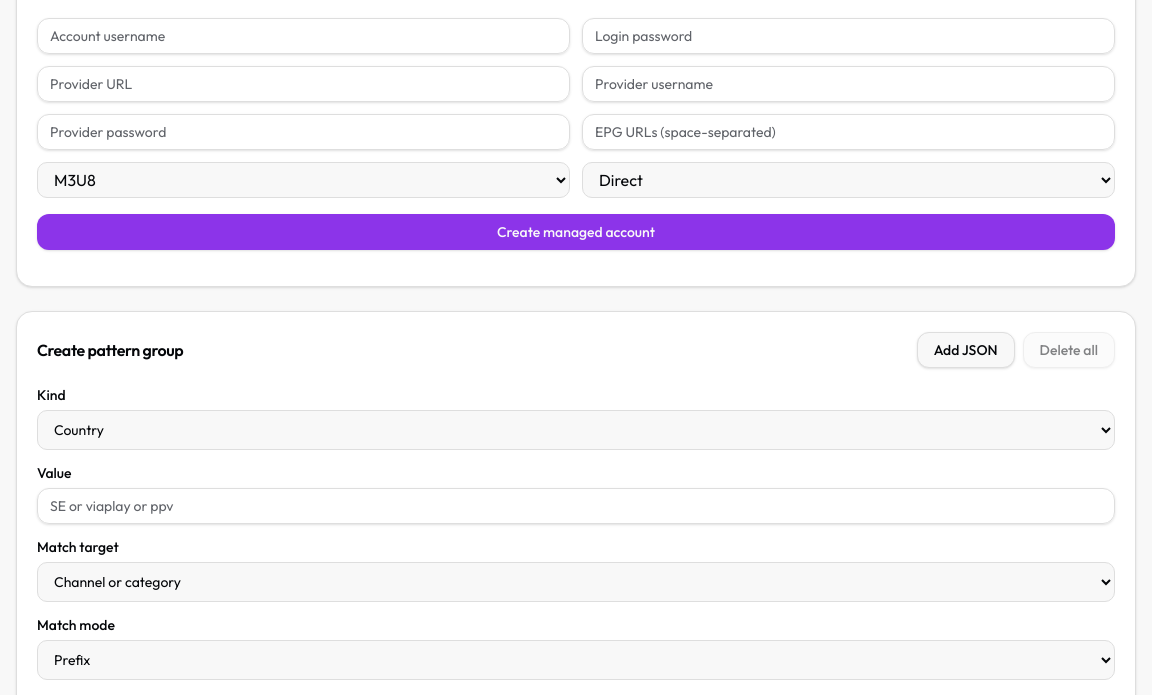
Scenario: AdminPage JSON import › opens the Add JSON modal
(page scrolled)
Click the button "Add JSON".
click(966, 350)  # box [917,332,1015,368]
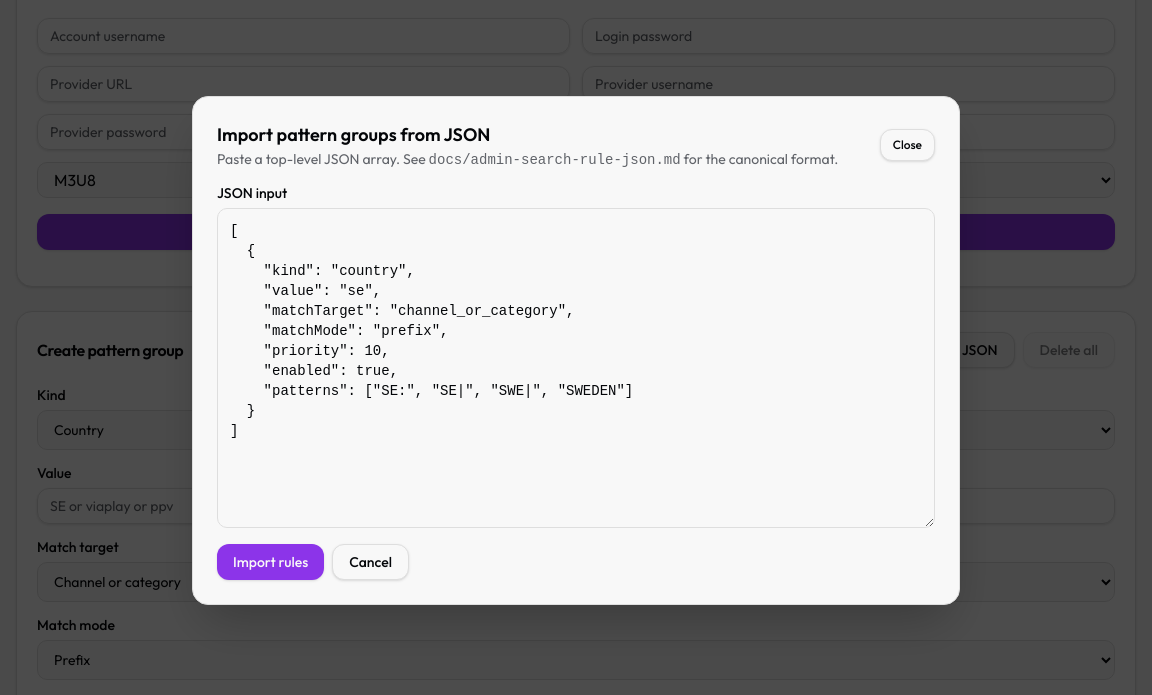
expect the heading "Import pattern groups from JSON" is shown: met, box [217,122,490,146]
